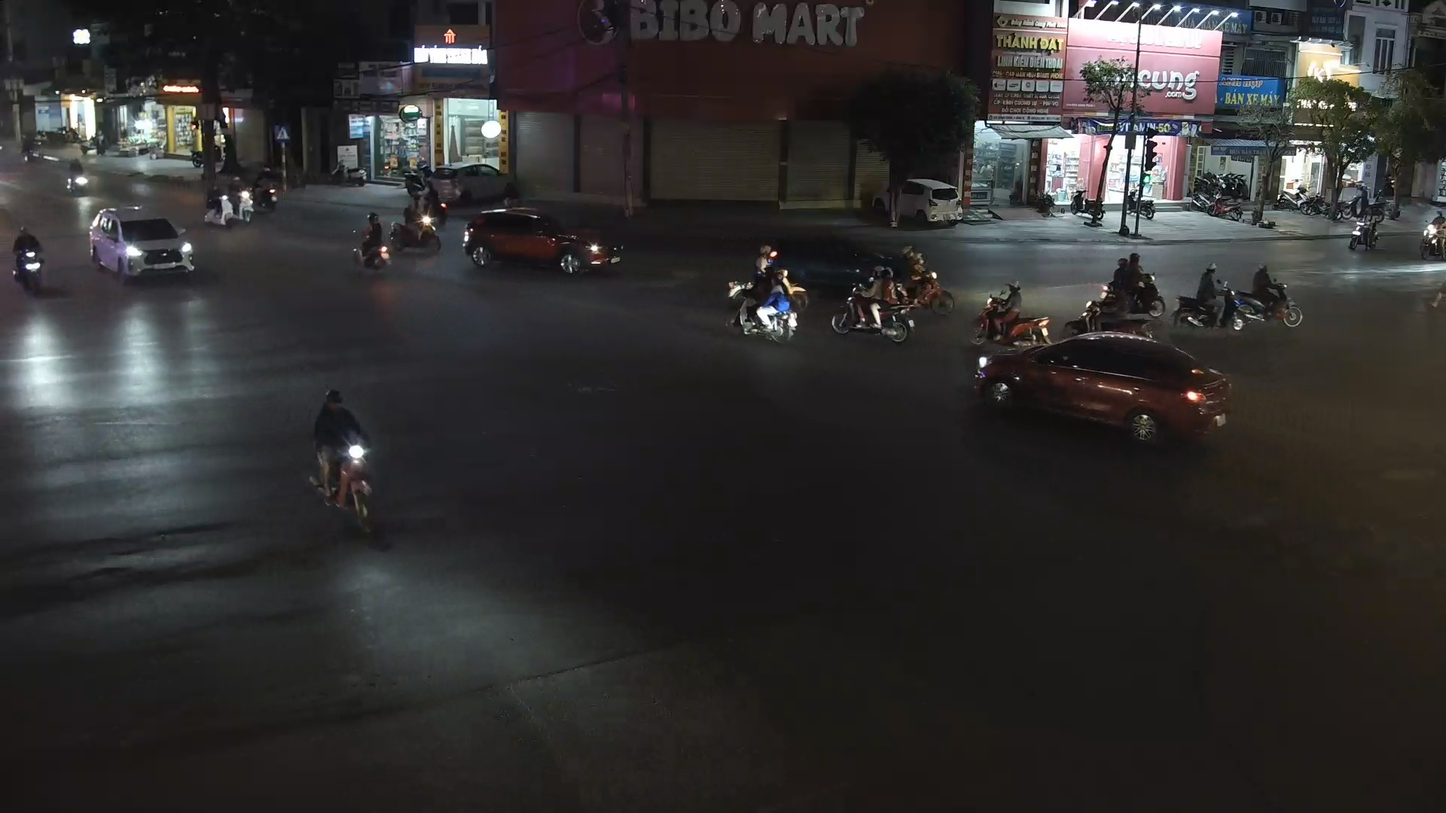car: (968, 332, 1232, 448), (462, 202, 626, 273), (89, 203, 198, 285)
motorbike: (305, 385, 378, 533), (967, 280, 1051, 388), (1074, 251, 1168, 337), (830, 263, 916, 343), (728, 258, 802, 343), (1172, 262, 1245, 334), (885, 246, 956, 318), (1230, 263, 1305, 329), (350, 209, 393, 275), (9, 224, 47, 295)
